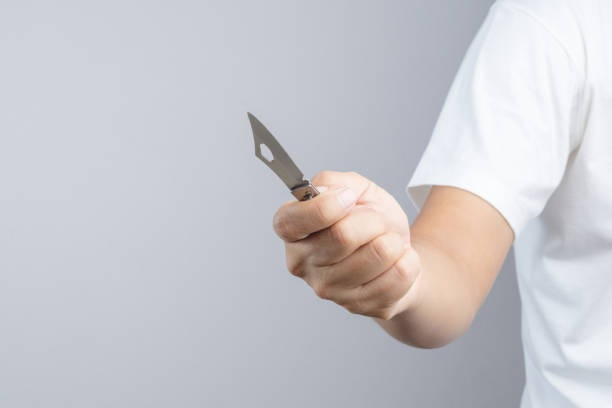knife: (245, 109, 337, 227)
